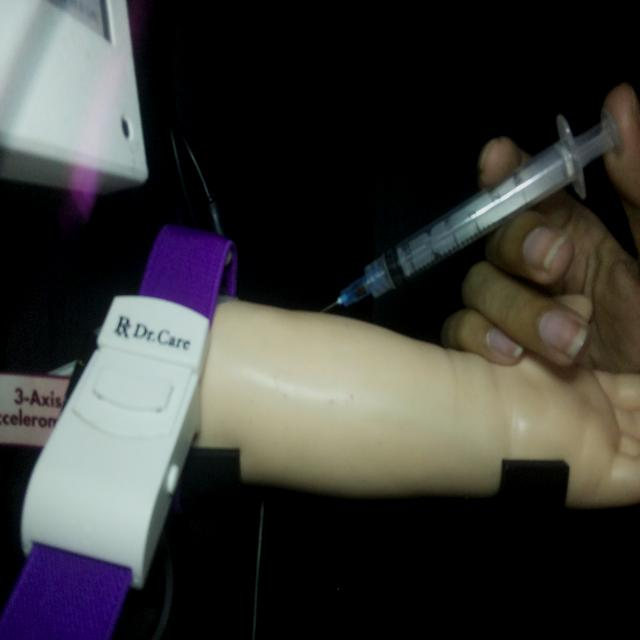24 degrees: (319, 105, 622, 315)
